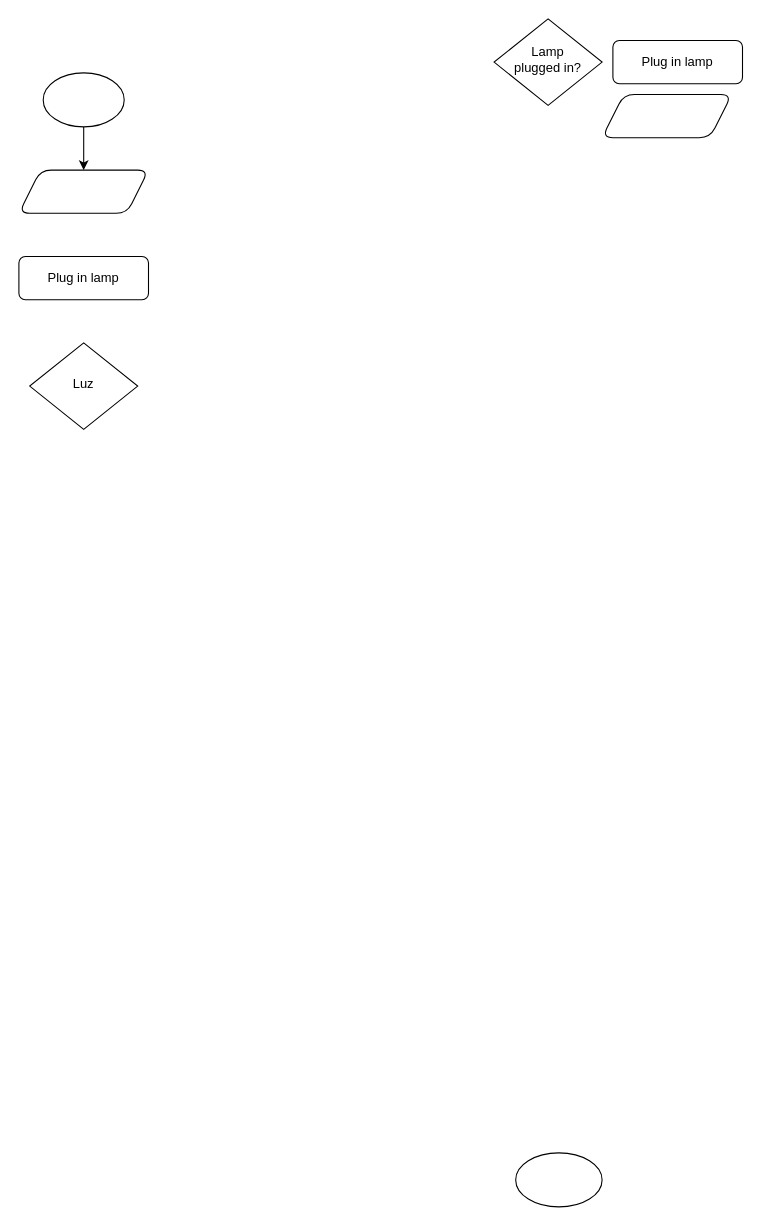
The diagram is 761 pixels wide and 1226 high, and some of its shapes have lost their labels. The centre of each missing label's shape, as x and y in pixels:
Final: the point at 558,1179
Inicio: the point at 83,99
